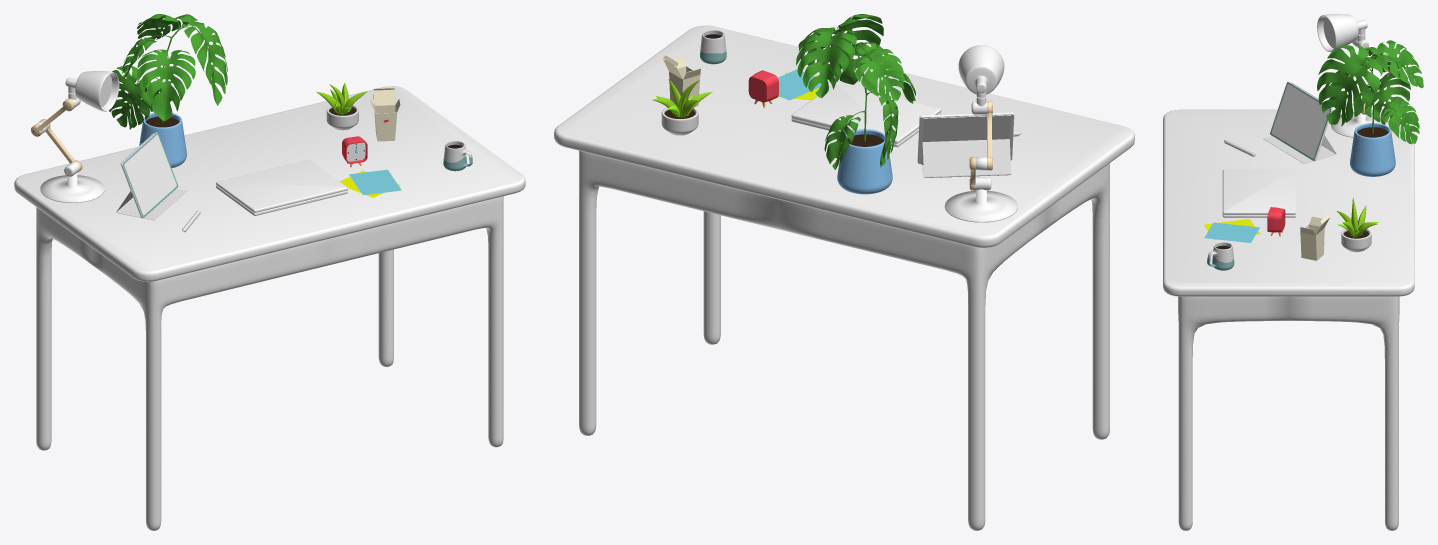
Rendered from table.gltf.
3 renders of one model, left to right at view 1: azimuth 30°, elevation 25°; view 2: azimuth 150°, elevation 25°; view 3: azimuth 270°, elevation 25°, orthographic. The views are drawn at different scales.
Parts seen in each view (by area): view 1: tabletop.001, Cube.001, laptopbase.001, monstera leaf.005, ipad-screen, monstera leaf.003, monstera leaf.004, rod1.001, Vert, cardboard-box, lampbase, Plane.005 (+2 smaller); view 2: tabletop.001, Cube.001, Plane, laptopbase.001, monstera leaf.002, Vert, monstera leaf.006, rod1.001, monstera leaf.003, lampbase, monstera leaf.007, cardboard-box (+4 smaller); view 3: tabletop.001, Cube.001, monstera leaf.003, laptopbase.001, ipad-screen, Vert, monstera leaf.002, monstera leaf.004, rod1.001, monstera leaf.007, cardboard-box, Plane.005 (+5 smaller).
Boxes of the visible parts, x1=… form: tabletop.001: x1=14, y1=86, x2=525, y2=281; Cube.001: x1=36, y1=196, x2=503, y2=530; laptopbase.001: x1=216, y1=159, x2=347, y2=212; monstera leaf.005: x1=137, y1=49, x2=195, y2=121; ipad-screen: x1=124, y1=134, x2=176, y2=215; monstera leaf.003: x1=181, y1=21, x2=227, y2=105; monstera leaf.004: x1=109, y1=66, x2=153, y2=129; rod1.001: x1=65, y1=71, x2=119, y2=111; Vert: x1=139, y1=112, x2=186, y2=167; cardboard-box: x1=370, y1=87, x2=400, y2=141; lampbase: x1=40, y1=175, x2=104, y2=202; Plane.005: x1=349, y1=169, x2=401, y2=195; tabletop.001: x1=554, y1=25, x2=1134, y2=247; Cube.001: x1=579, y1=151, x2=1109, y2=530; Plane: x1=921, y1=115, x2=1011, y2=177; laptopbase.001: x1=791, y1=83, x2=941, y2=143; monstera leaf.002: x1=796, y1=30, x2=856, y2=98; Vert: x1=837, y1=129, x2=892, y2=194; monstera leaf.006: x1=853, y1=48, x2=904, y2=100; rod1.001: x1=958, y1=45, x2=1004, y2=94; monstera leaf.003: x1=798, y1=14, x2=883, y2=84; lampbase: x1=944, y1=190, x2=1018, y2=222; monstera leaf.007: x1=824, y1=115, x2=860, y2=169; cardboard-box: x1=663, y1=55, x2=700, y2=106; tabletop.001: x1=1163, y1=109, x2=1414, y2=296; Cube.001: x1=1178, y1=296, x2=1399, y2=530; monstera leaf.003: x1=1317, y1=44, x2=1382, y2=126; laptopbase.001: x1=1222, y1=169, x2=1295, y2=214; ipad-screen: x1=1271, y1=84, x2=1329, y2=158; Vert: x1=1350, y1=123, x2=1395, y2=176; monstera leaf.002: x1=1376, y1=40, x2=1423, y2=88; monstera leaf.004: x1=1360, y1=71, x2=1410, y2=124; rod1.001: x1=1317, y1=14, x2=1367, y2=51; monstera leaf.007: x1=1383, y1=100, x2=1419, y2=144; cardboard-box: x1=1300, y1=214, x2=1329, y2=260; Plane.005: x1=1204, y1=222, x2=1259, y2=242.
Size of the model in its own units: 1.97 by 1.96 by 1.21.
Materials: 18 (1 with a texture image).
